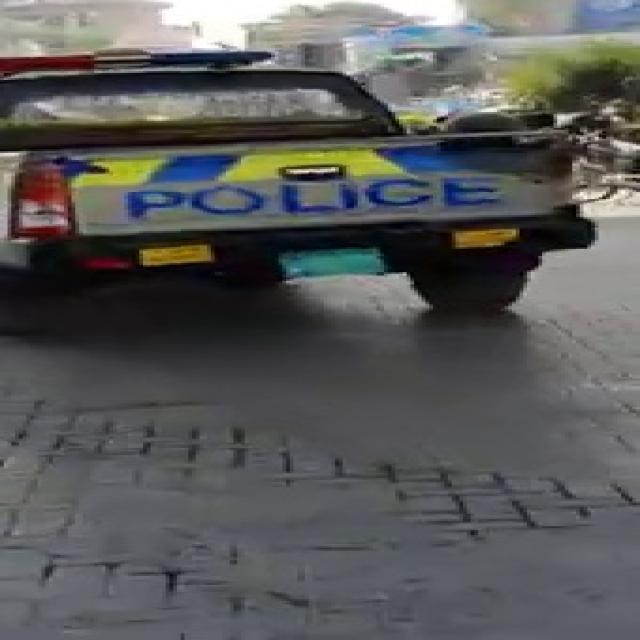police: (5, 60, 552, 307)
